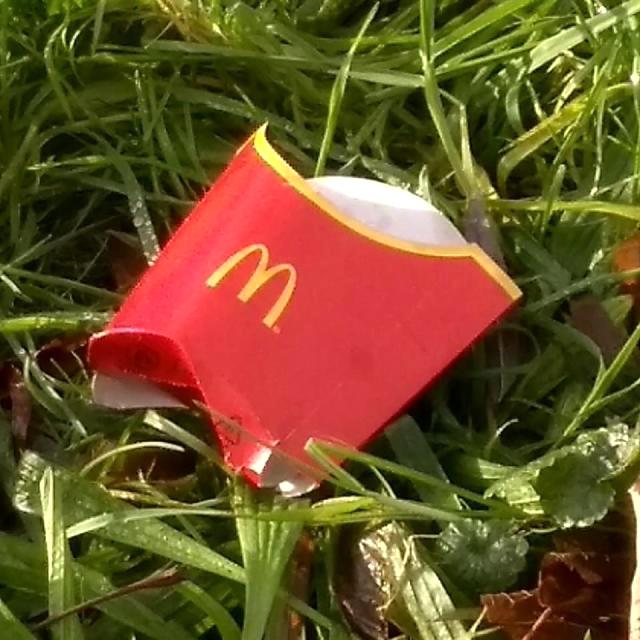Paper: (80, 115, 524, 501)
